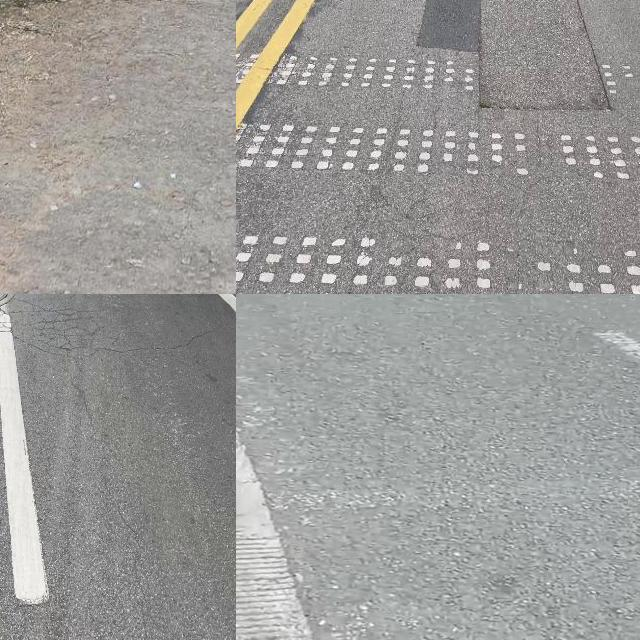Sambungan: (418, 0, 611, 111)
